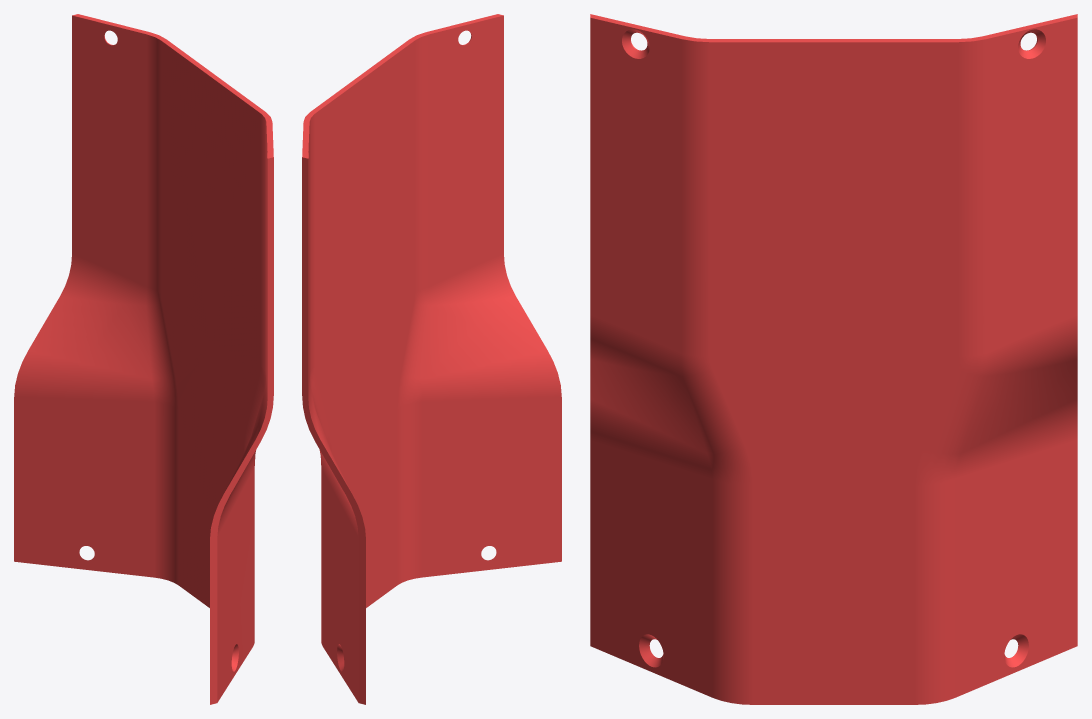
Rendered from chassis_left.obj.
3 views of the same model, side by side, from view 1: azimuth 30°, elevation 25°; view 2: azimuth 150°, elevation 25°; view 3: azimuth 270°, elevation 25° (orthographic). The views are drawn at different scales.
Parts seen in each view (by area): view 1: left; view 2: left; view 3: left.
Part boxes in pixels (x1,y1,x2,y2): left: (14, 14, 273, 704); left: (302, 14, 561, 704); left: (590, 14, 1077, 704).
Size of the model in its own units: 0.0259 by 0.126 by 0.084.
